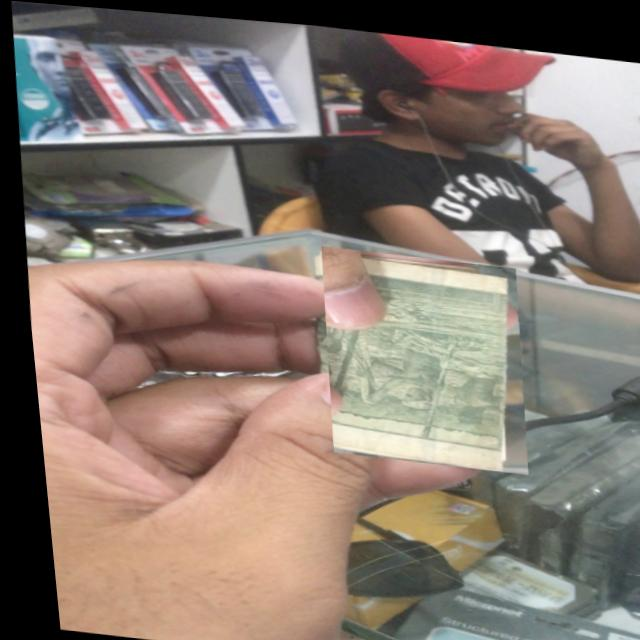Taka: (310, 240, 527, 467)
